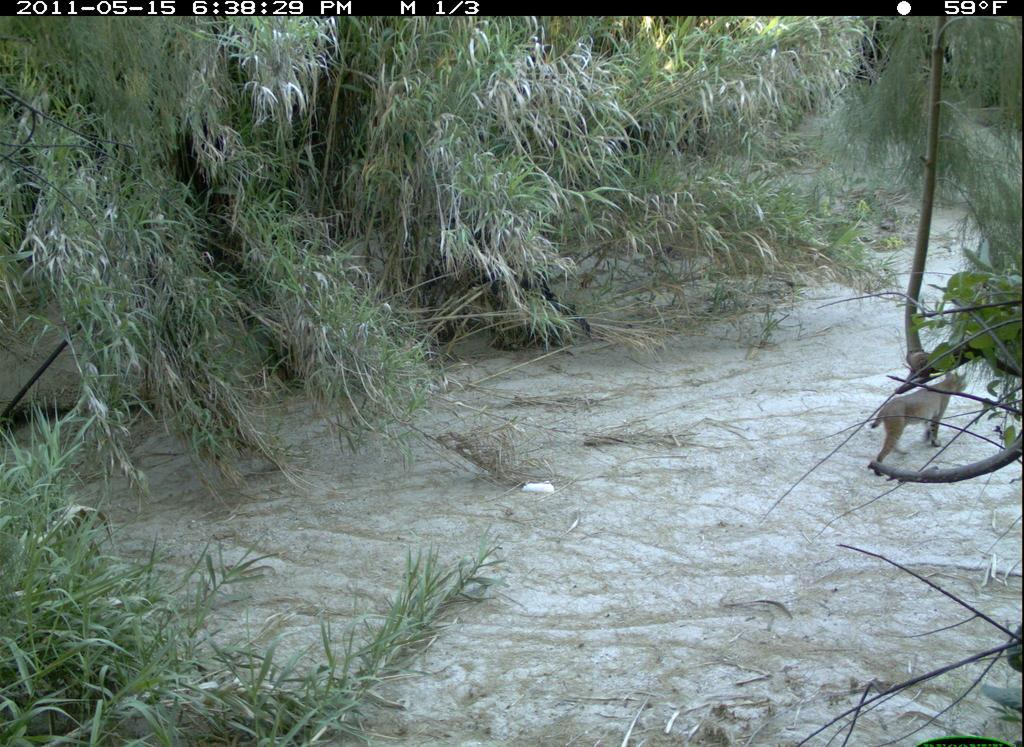bobcat: (867, 369, 985, 481)
